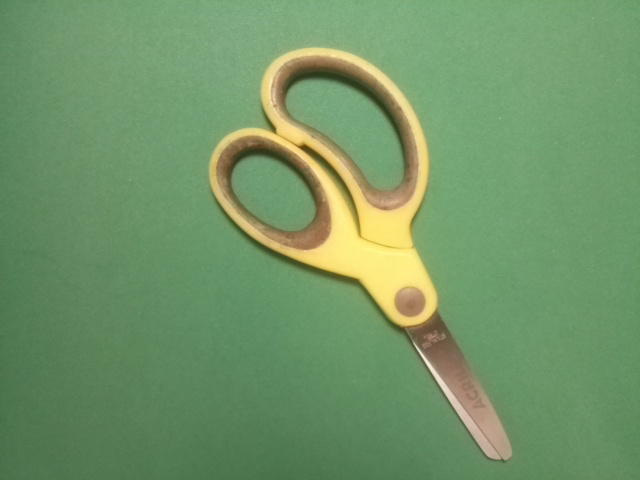Tesoura: (211, 43, 523, 460)
